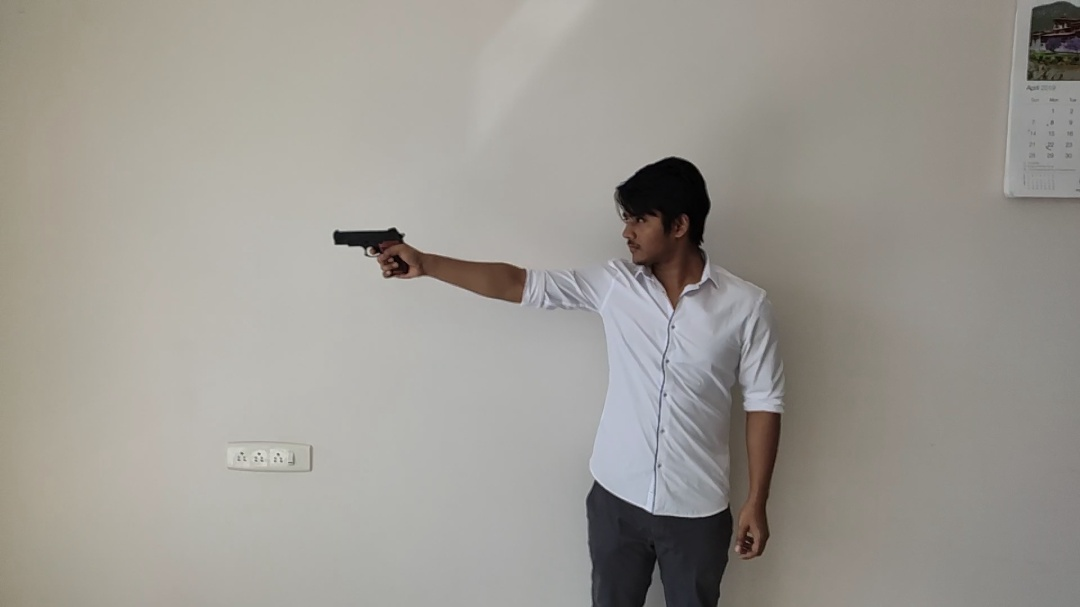gun: (333, 227, 409, 275)
